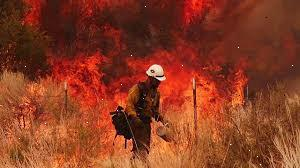fire: (22, 0, 114, 163), (161, 0, 249, 116)
